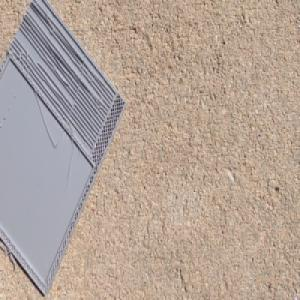PlasticPart: (0, 0, 129, 298)
